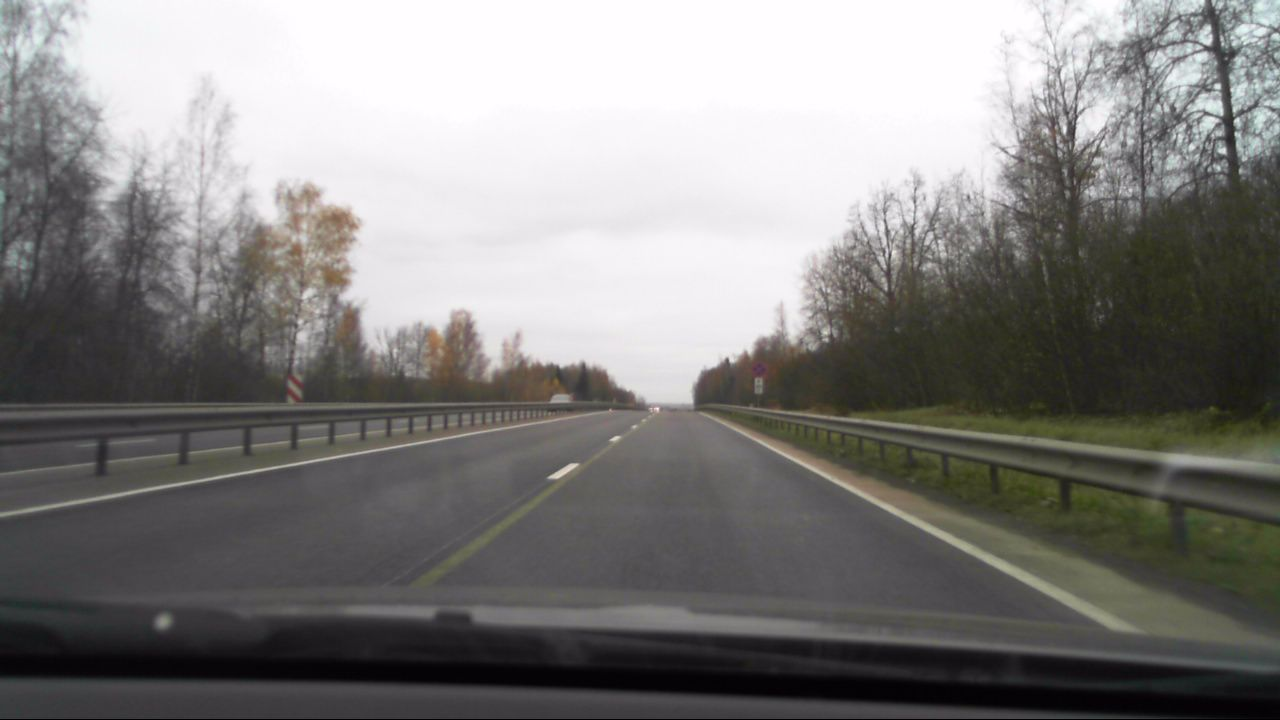No Parking: (750, 360, 770, 379)
